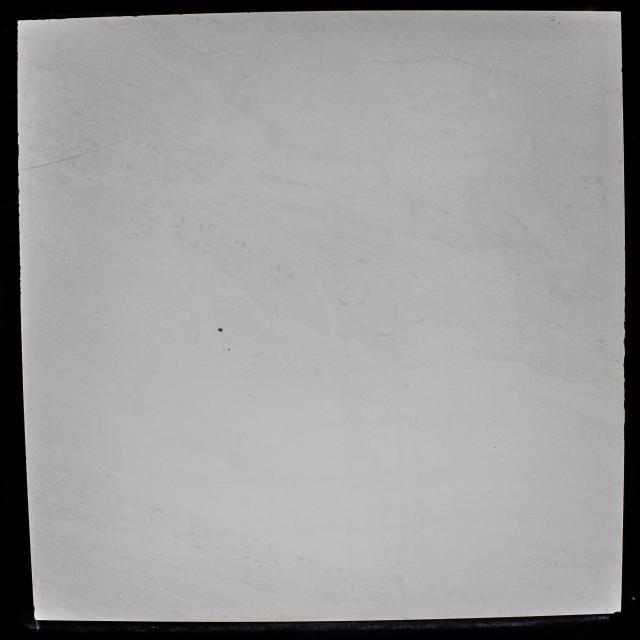hole: (216, 326, 224, 334), (228, 348, 230, 351)
line: (21, 155, 79, 170), (81, 138, 127, 156)
